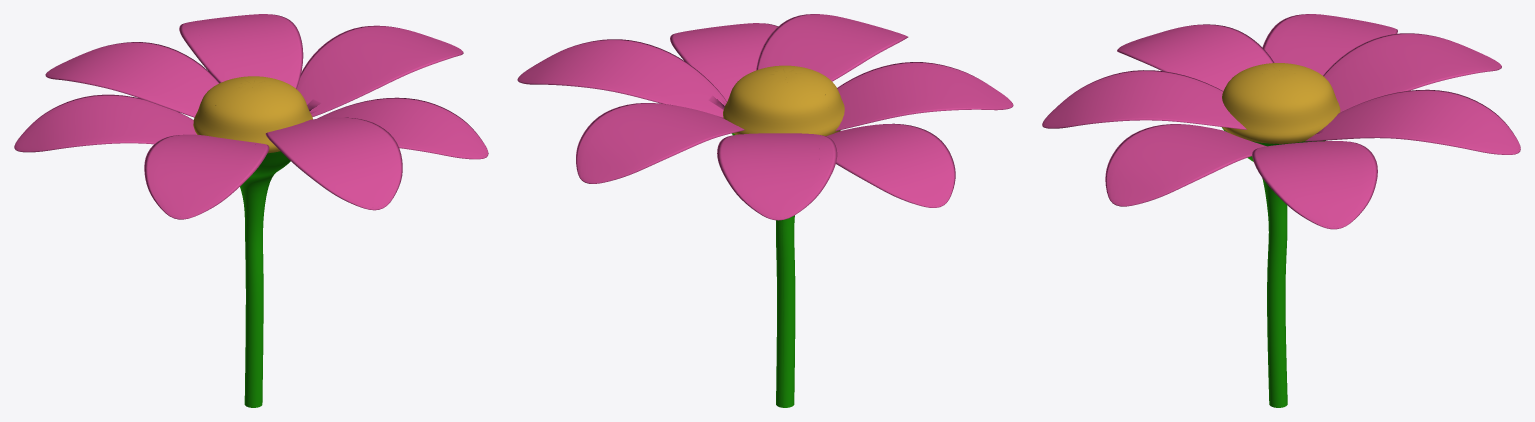
The model's file is Flor.fbx.
The picture shows the model from 3 angles, left to right: view 1: azimuth 30°, elevation 25°; view 2: azimuth 150°, elevation 25°; view 3: azimuth 270°, elevation 25°; orthographic projection. The views are drawn at different scales.
Parts seen in each view (by area): view 1: Flor; view 2: Flor; view 3: Flor.
Part boxes in pixels (x1,y1,x2,y2): Flor: (14,14,488,407); Flor: (517,14,1013,407); Flor: (1042,14,1520,407).
Size of the model in its own units: 27.95 by 19.93 by 26.07.
